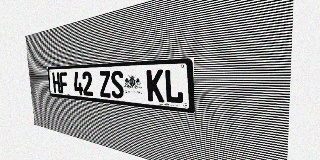2: (82, 71, 93, 96)
4: (73, 72, 83, 95)
F: (59, 72, 68, 94)
H: (52, 72, 61, 93)
K: (146, 69, 164, 102)
L: (164, 69, 184, 104)
S: (110, 70, 124, 99)
Z: (99, 71, 112, 98)
